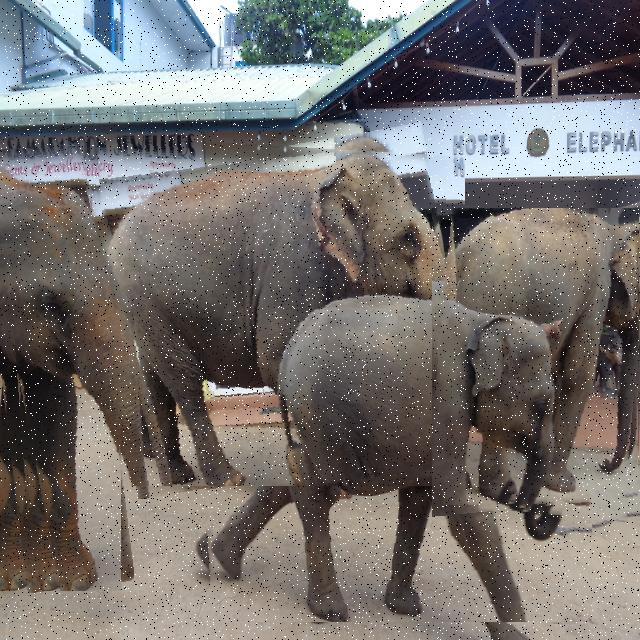elephant: (193, 291, 592, 622), (96, 135, 465, 486), (432, 208, 640, 517), (0, 142, 121, 591)
